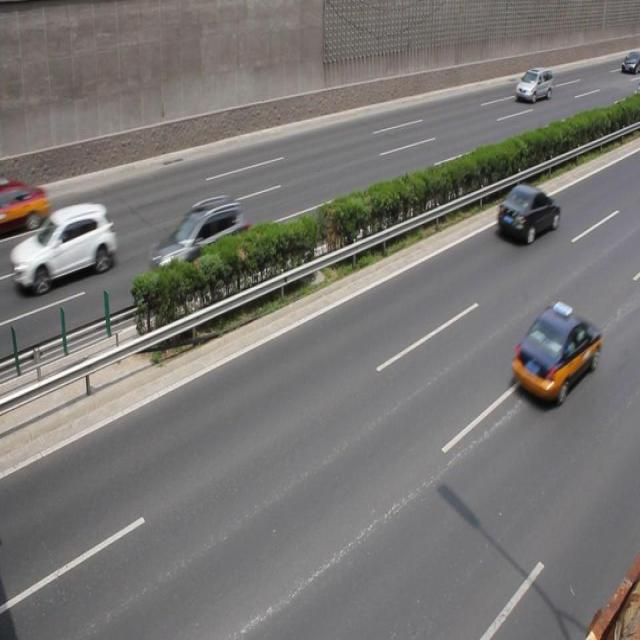car: (147, 195, 251, 292), (508, 299, 599, 406), (29, 203, 114, 289), (496, 182, 558, 245), (514, 67, 552, 104)
